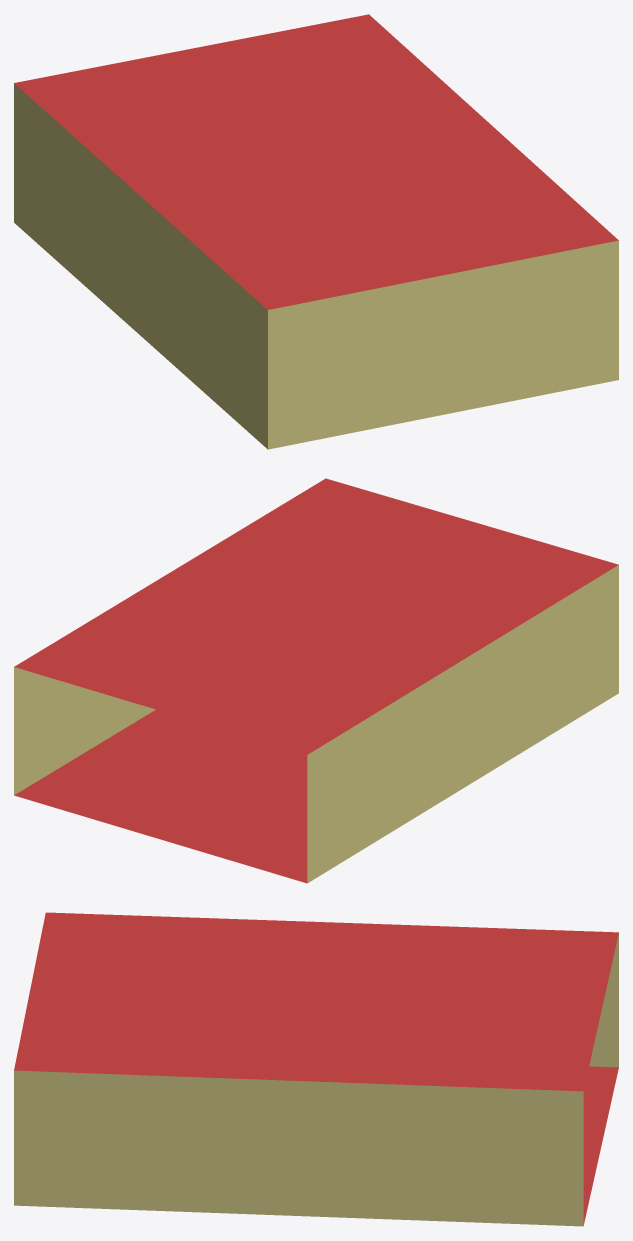
3 views of the same model, one above another, from view 1: azimuth 30°, elevation 25°; view 2: azimuth 150°, elevation 25°; view 3: azimuth 270°, elevation 25° (orthographic). The views are drawn at different scales.
Size of the model in its own units: 18.77 by 26.82 by 6.61.
